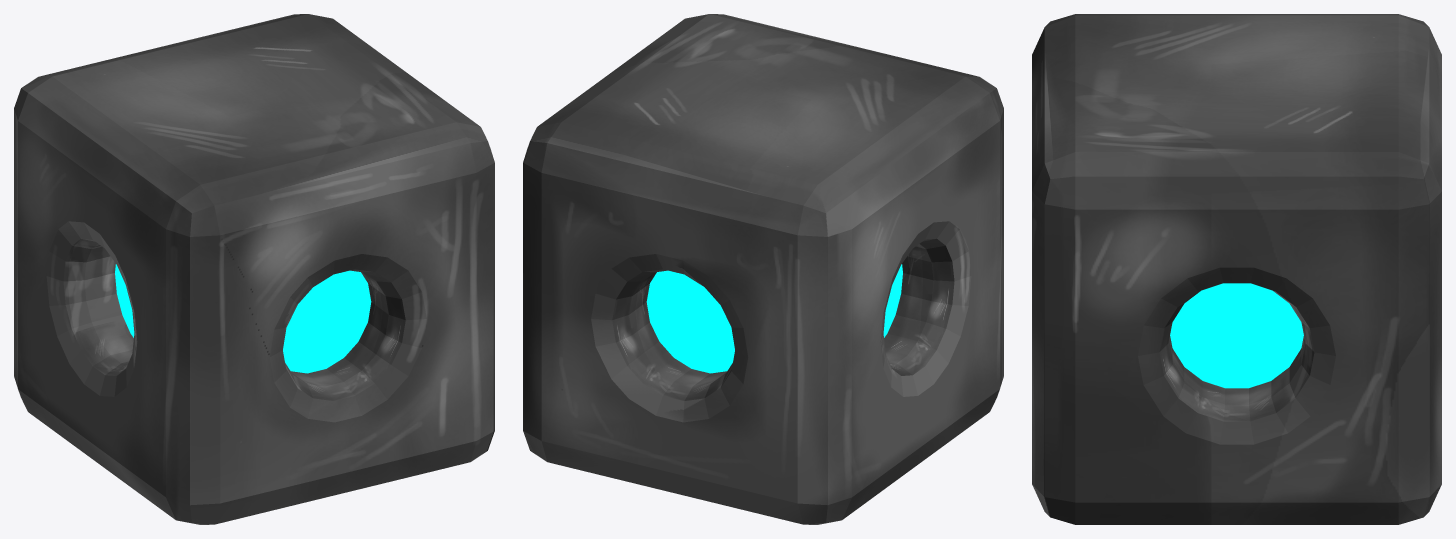
The model's file is bloc.glb.
The picture shows the model from 3 angles, left to right: view 1: azimuth 30°, elevation 25°; view 2: azimuth 150°, elevation 25°; view 3: azimuth 270°, elevation 25°; orthographic projection. The views are drawn at different scales.
Visible parts, largest first — view 1: Cube; view 2: Cube; view 3: Cube.
Boxes of the visible parts, x1,y1,x2,y2 form: Cube: [14, 14, 494, 524]; Cube: [523, 14, 1003, 524]; Cube: [1032, 14, 1441, 524].
Size of the model in its own units: 1 by 1 by 1.
Materials: 2 (1 with a texture image).
